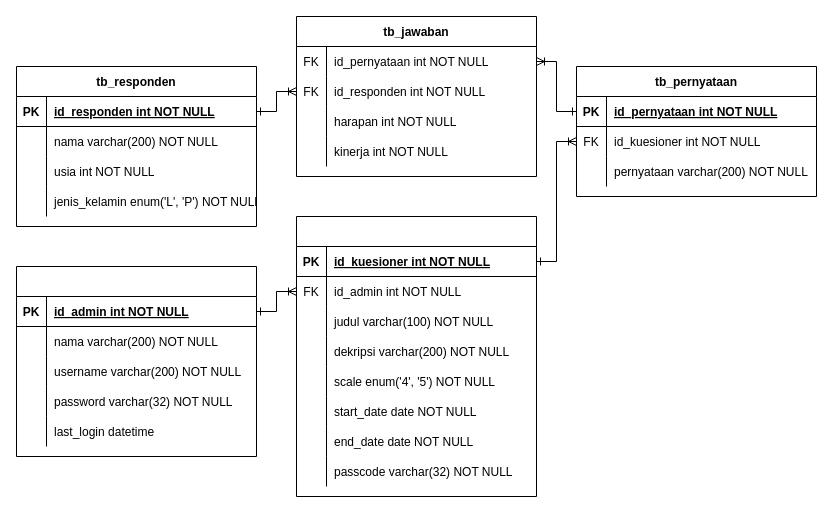
Image size: 833x513. Some labels were removed from this diagram. Each missing label, with the box of its shape:
tb_admin: (16, 266, 256, 456)
tb_kuesioner: (296, 216, 536, 496)
